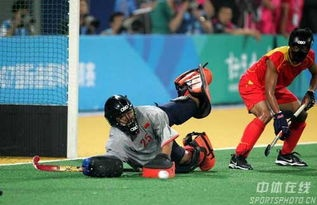falling: (84, 55, 223, 175)
